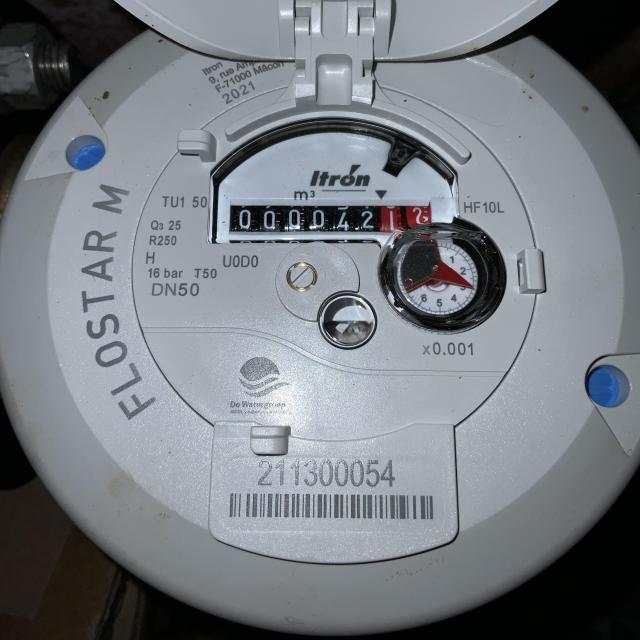gaz_meter: (128, 77, 542, 447)
indication: (230, 205, 432, 235)
